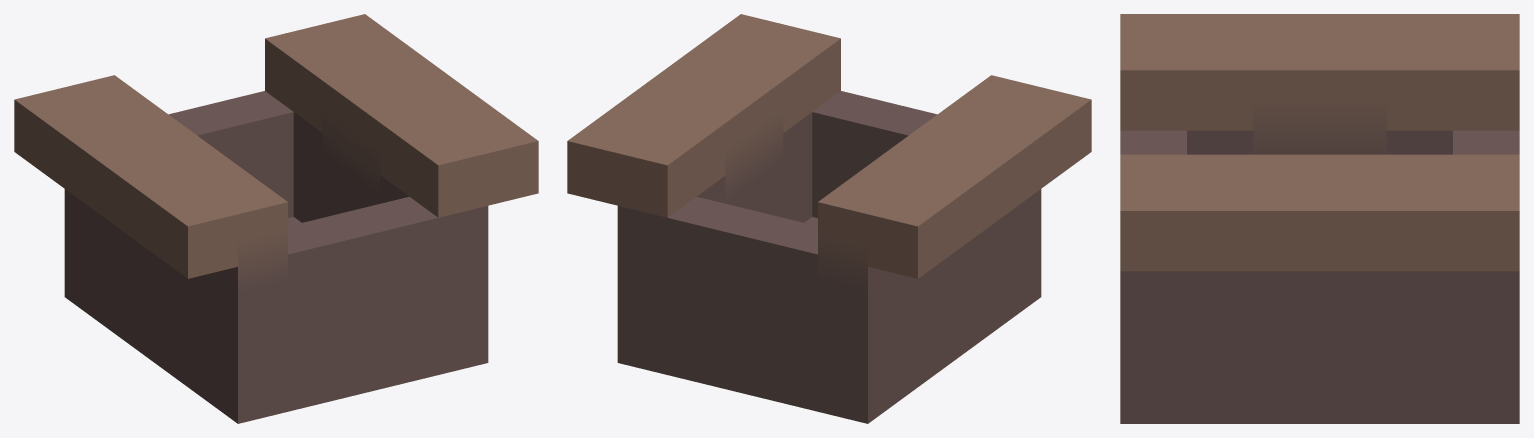
The model's file is CardboardBox.fbx.
3 views of the same model, side by side, from view 1: azimuth 30°, elevation 25°; view 2: azimuth 150°, elevation 25°; view 3: azimuth 270°, elevation 25° (orthographic). The views are drawn at different scales.
Visible parts, largest first — view 1: CardboardBox; view 2: CardboardBox; view 3: CardboardBox.
Boxes of the visible parts, x1,y1,x2,y2 form: CardboardBox: (14,14,538,423); CardboardBox: (567,14,1091,423); CardboardBox: (1120,14,1519,423).
Bounding box in the file's own units: 70 × 40 × 60.
